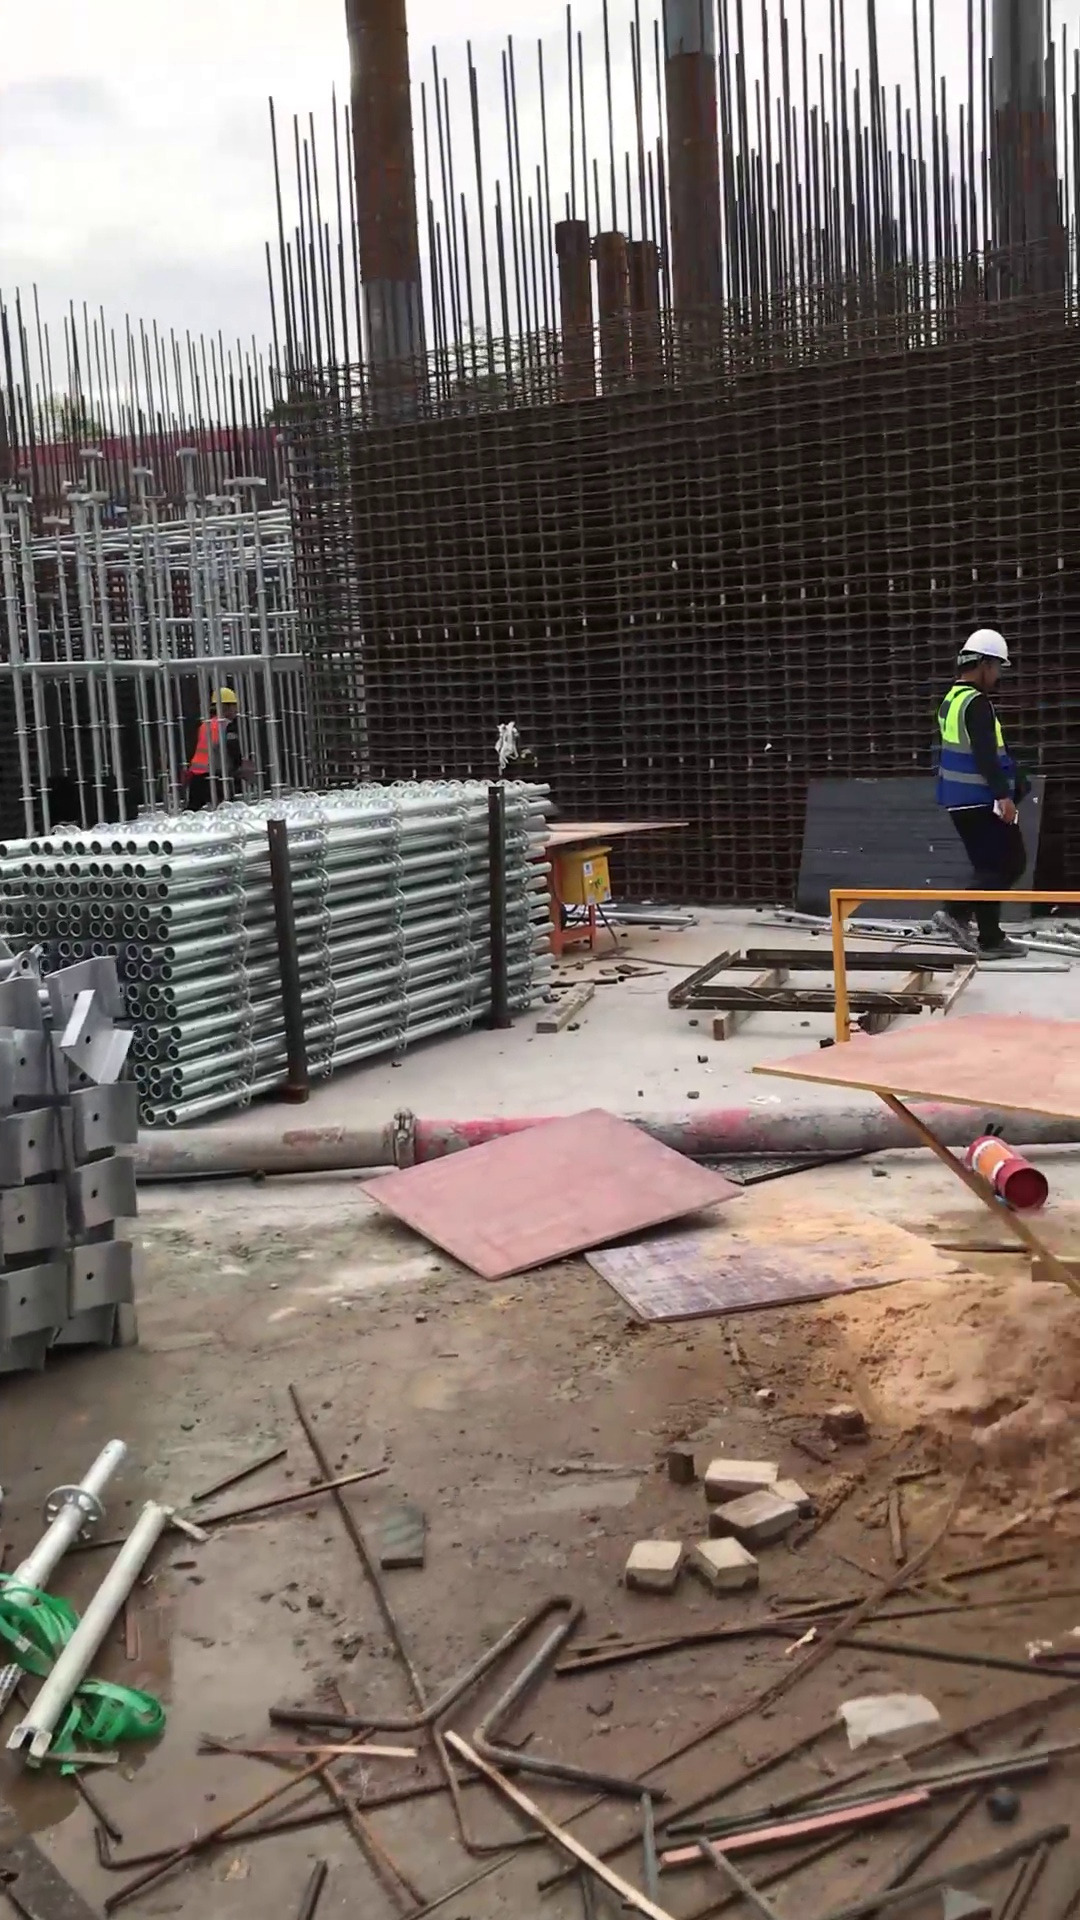cutter: (528, 803, 690, 977)
helmet: (953, 621, 1015, 676), (205, 683, 246, 713)
person: (926, 622, 1047, 967), (168, 681, 257, 817)
scaffold: (1, 756, 559, 1141)
vest: (933, 679, 1036, 822), (175, 715, 243, 785)
